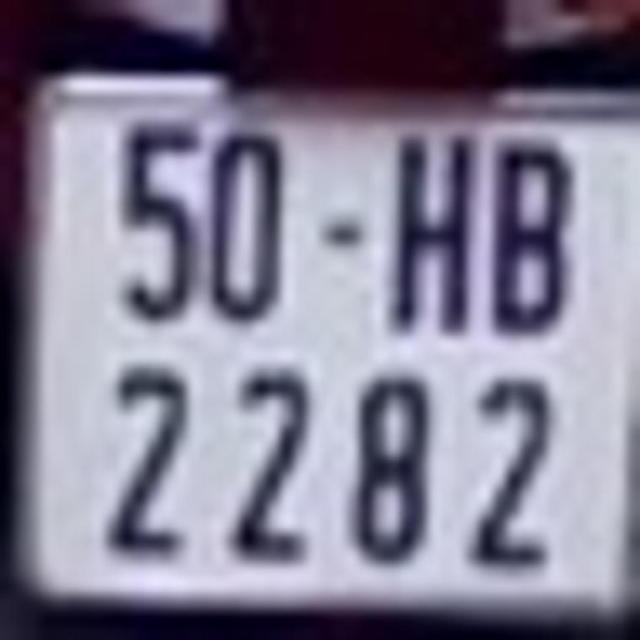0: (210, 131, 282, 320)
2: (470, 371, 550, 567), (237, 370, 310, 560), (114, 370, 188, 548)
5: (124, 118, 198, 316)
8: (354, 380, 426, 564)
B: (492, 140, 568, 330)
H: (394, 129, 468, 330)
